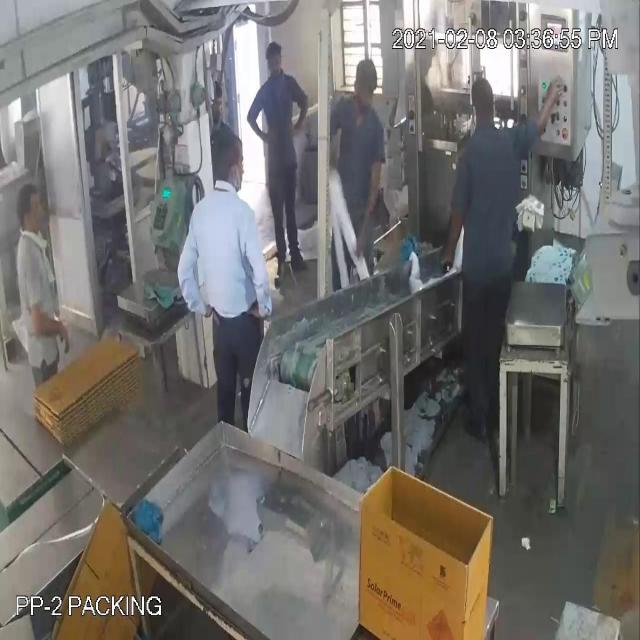No_Gloves: (19, 52, 550, 328)
